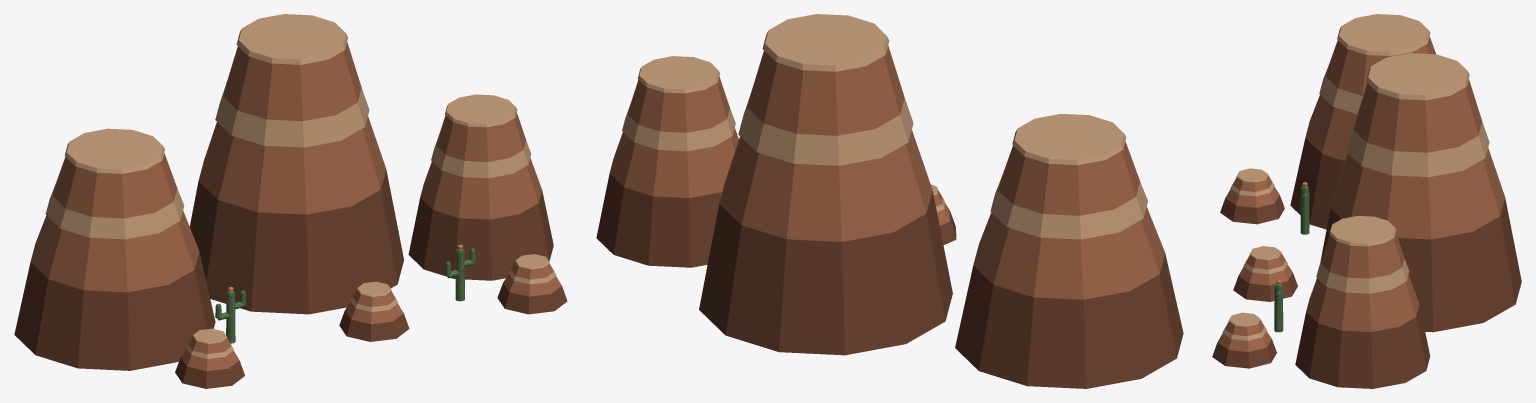
The model's file is Desert_MesaBackdrop_Showcase.glb.
3 renders of one model, left to right at view 1: azimuth 30°, elevation 25°; view 2: azimuth 150°, elevation 25°; view 3: azimuth 270°, elevation 25°, orthographic. The views are drawn at different scales.
Visible parts, largest first — view 1: Desert_MesaBackdrop_Showcase; view 2: Desert_MesaBackdrop_Showcase; view 3: Desert_MesaBackdrop_Showcase.
Boxes of the visible parts, x1,y1,x2,y2 form: Desert_MesaBackdrop_Showcase: (14, 14, 567, 388); Desert_MesaBackdrop_Showcase: (596, 14, 1183, 388); Desert_MesaBackdrop_Showcase: (1212, 14, 1521, 388).
Size of the model in its own units: 20.63 by 9 by 11.79.
